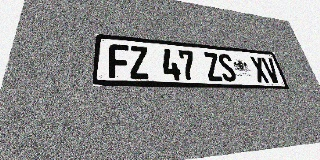4: (161, 48, 182, 80)
7: (177, 50, 198, 81)
F: (109, 44, 130, 79)
S: (217, 53, 238, 82)
V: (261, 57, 281, 83)
X: (249, 56, 270, 83)
Z: (129, 45, 150, 79), (203, 52, 224, 81)
